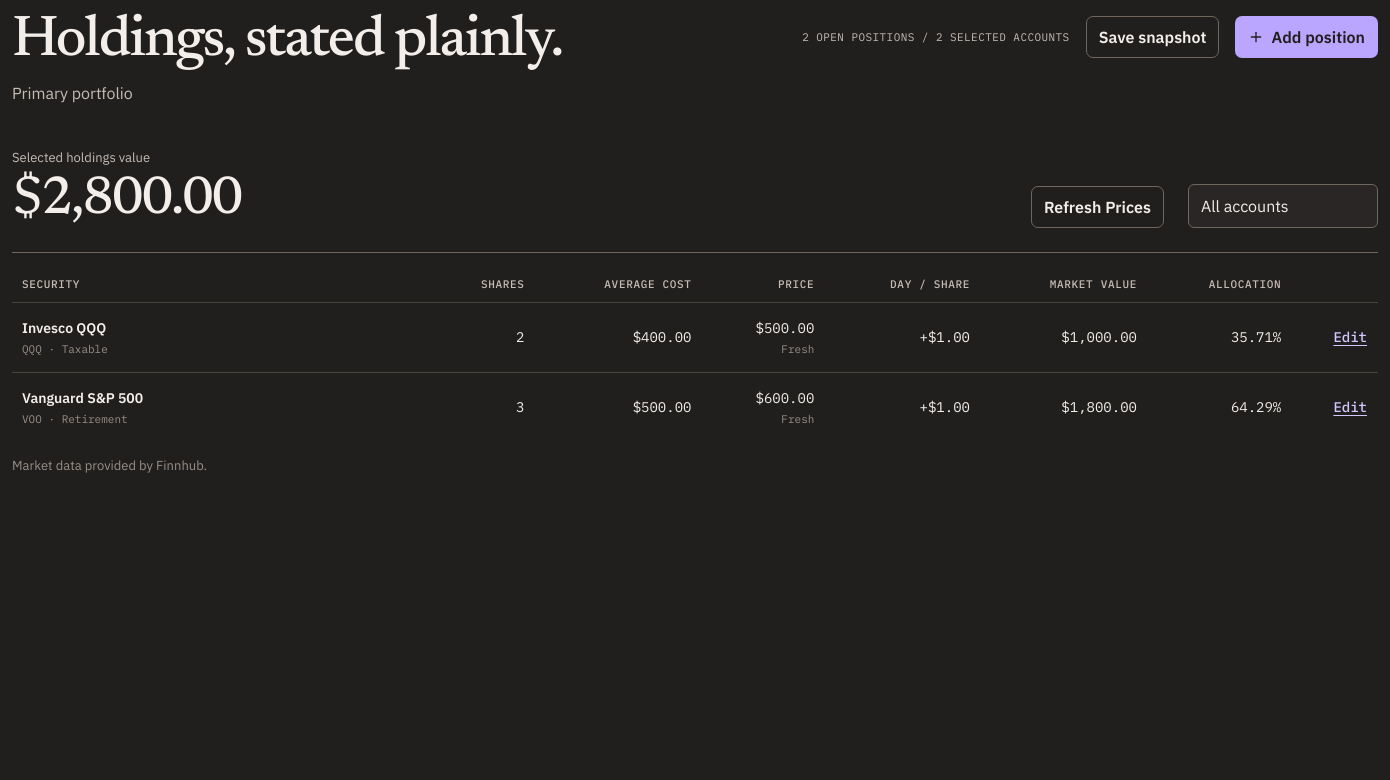
Test case: HoldingsPage account filters › retains and labels last-known prices when a manual refresh fails
Expected: the text "$2,800.00" is shown, [12, 174, 241, 227]
Click the button "Refresh Prices" at (1098, 207), box [1031, 186, 1164, 228]
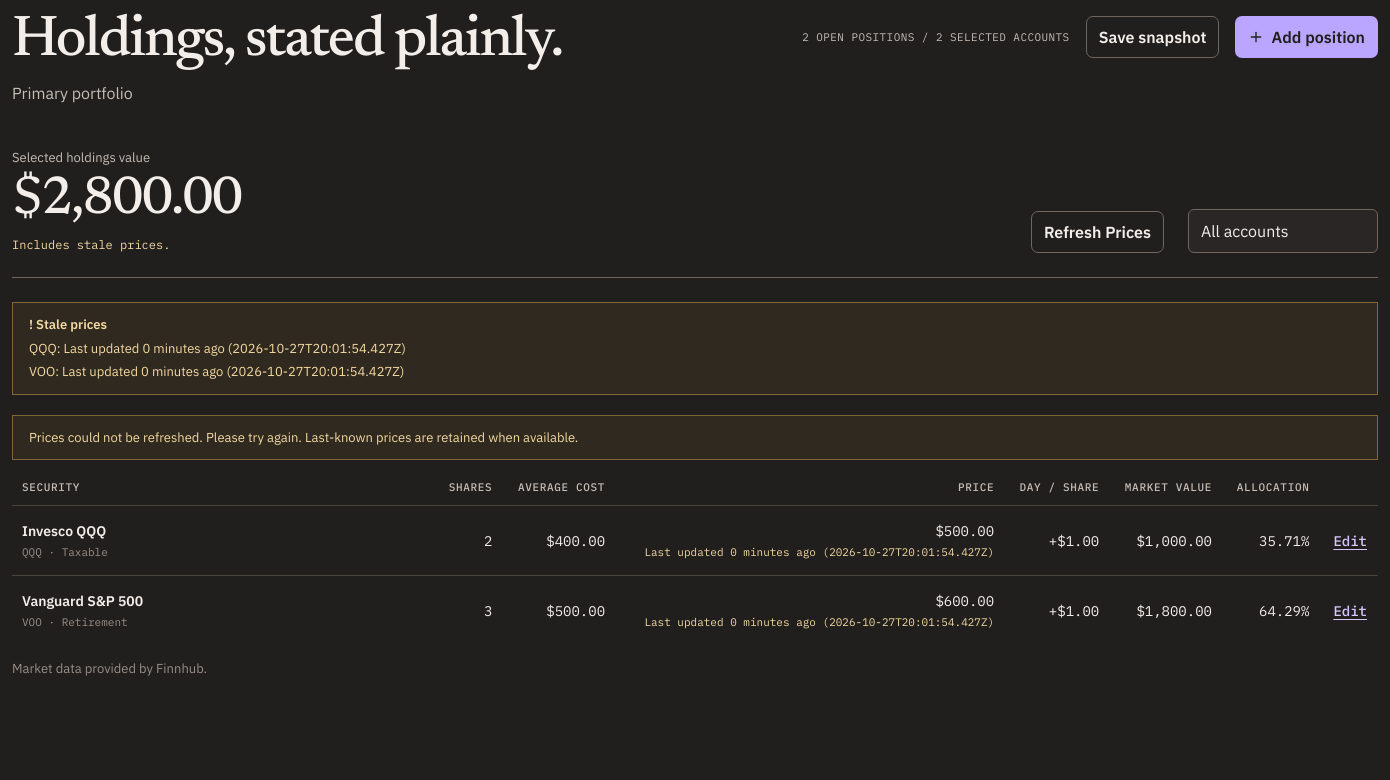
Expected: the text "$2,800.00" is shown, [12, 174, 241, 227]
Expected: the text "Prices could not be refreshed" is shown, [29, 429, 578, 446]
Expected: the text "Includes stale prices." is shown, [12, 237, 170, 252]
